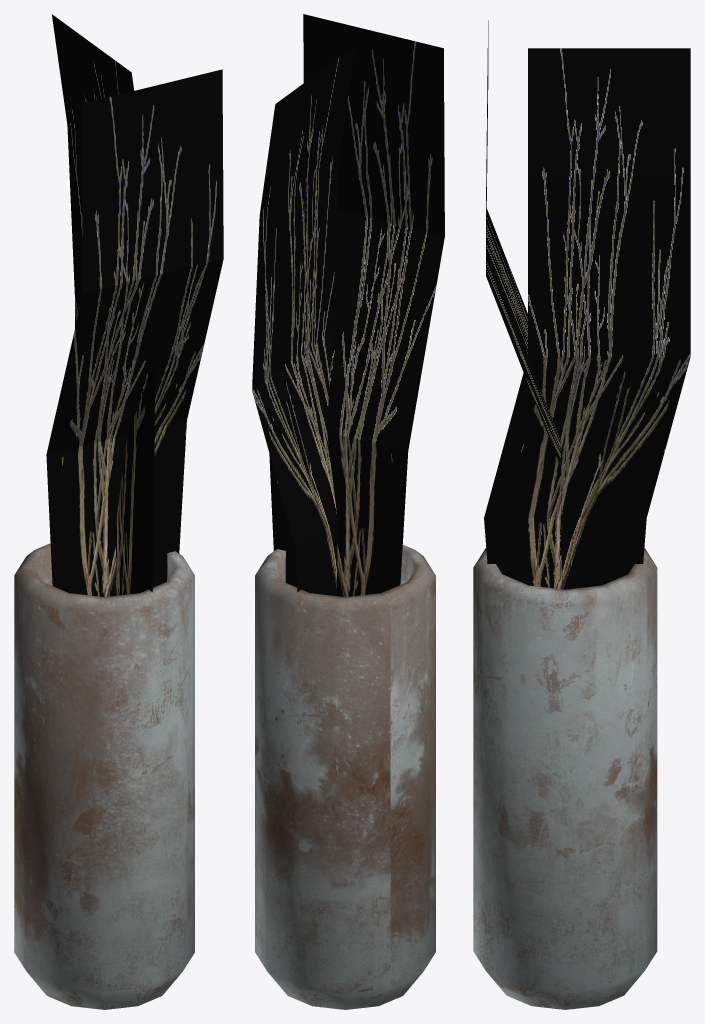
The model's file is Museum_TallPot.fbx.
3 renders of one model, left to right at view 1: azimuth 30°, elevation 25°; view 2: azimuth 150°, elevation 25°; view 3: azimuth 270°, elevation 25°, orthographic.
Visible parts, largest first — view 1: TallPot; view 2: TallPot; view 3: TallPot.
Boxes of the visible parts, left/top/right/bottom form: TallPot: left=14, top=14, right=223, bottom=1009; TallPot: left=252, top=14, right=444, bottom=1009; TallPot: left=473, top=20, right=690, bottom=1009.
Size of the model in its own units: 39.71 by 221 by 46.37.
Materials: 2 (2 with a texture image).
